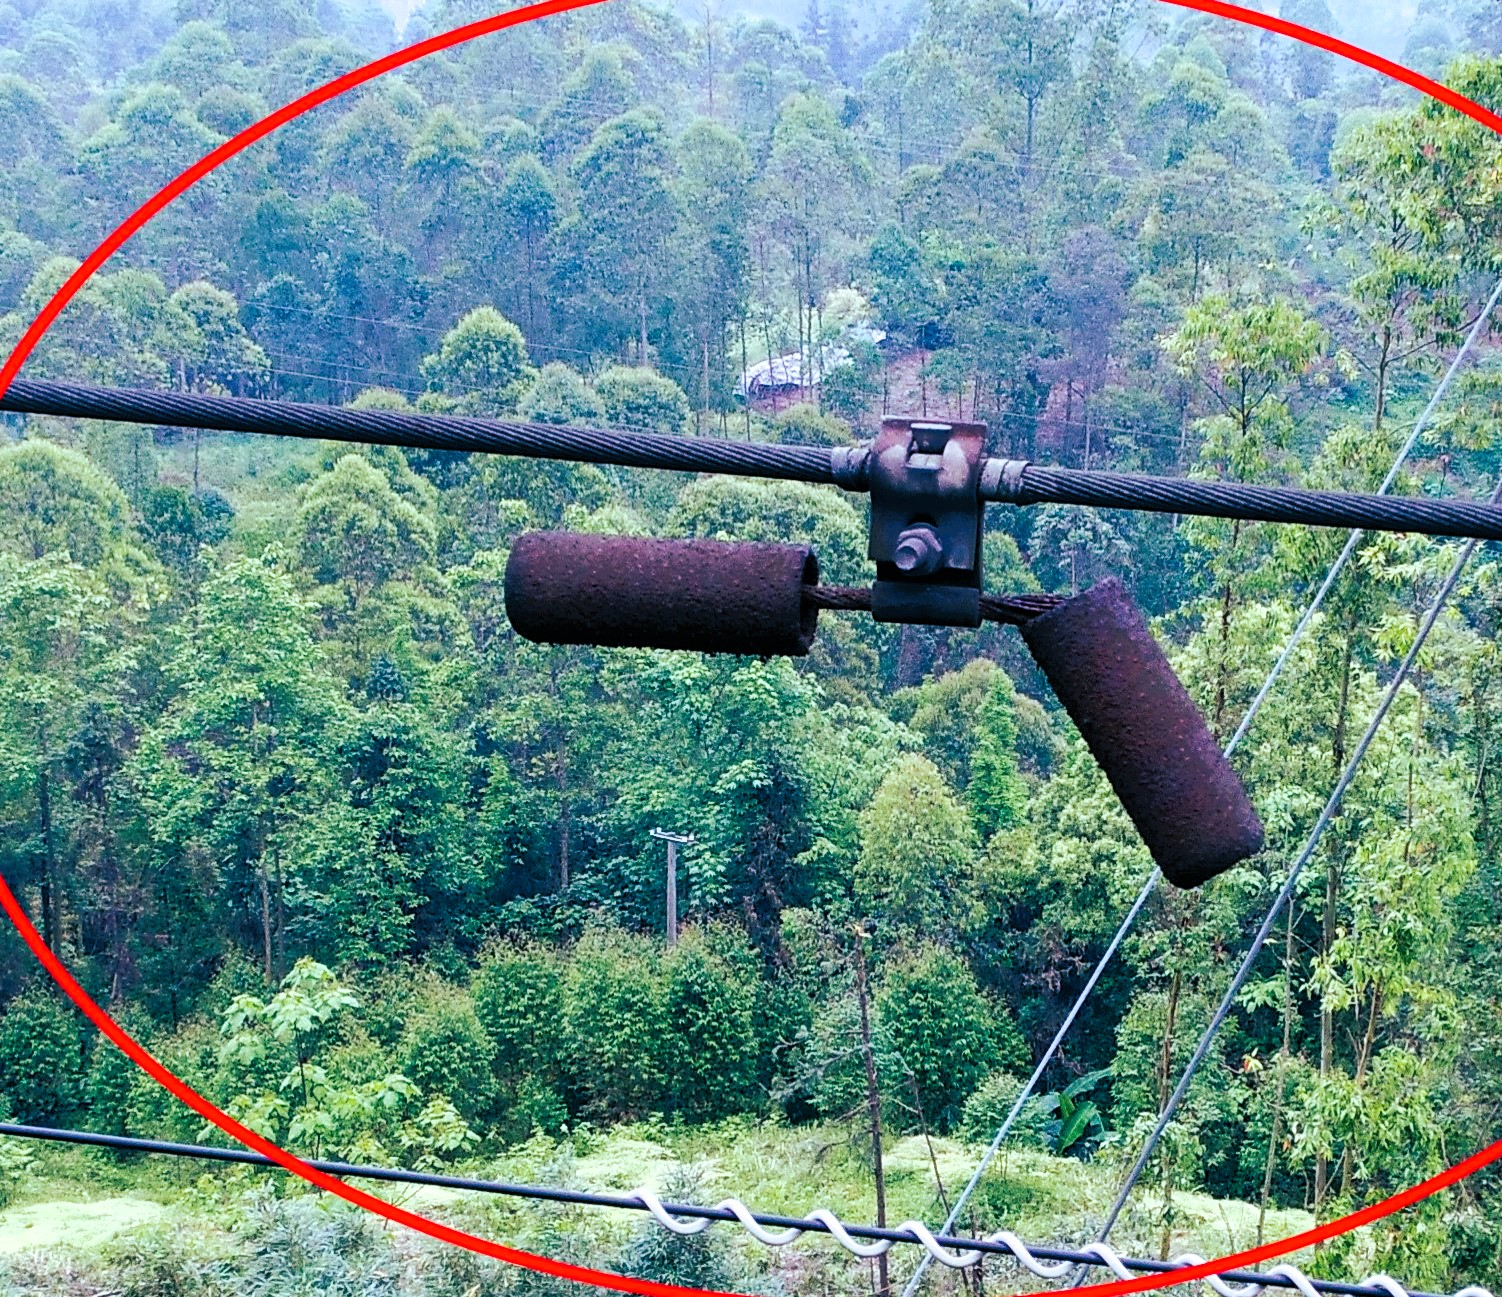Damage of shockproof hammer: (469, 351, 1287, 912)
